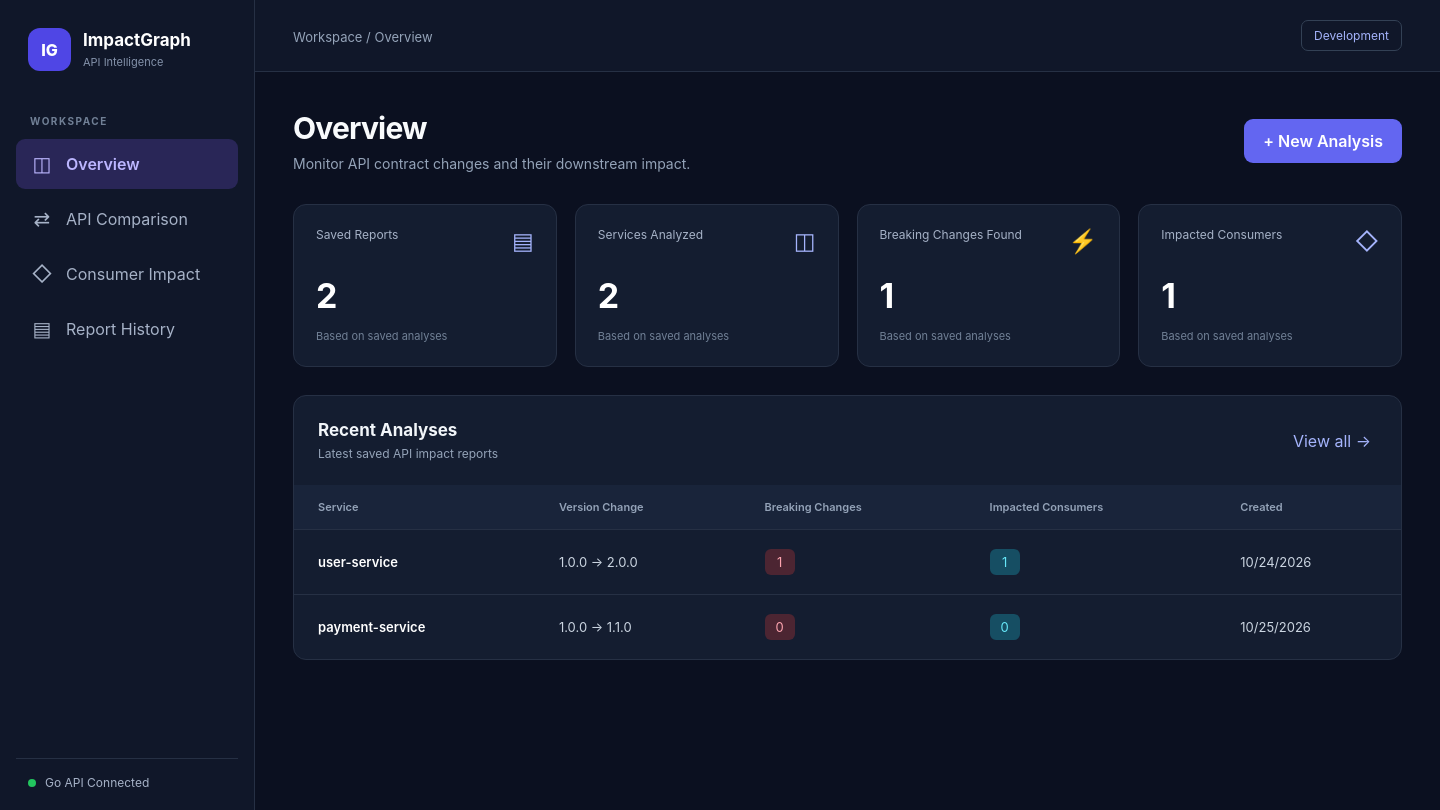
Test: ImpactGraph App › opens Consumer Impact from the sidebar
Click the button "◇ Consumer Impact" at coordinates (127, 274), box [16, 249, 238, 299]
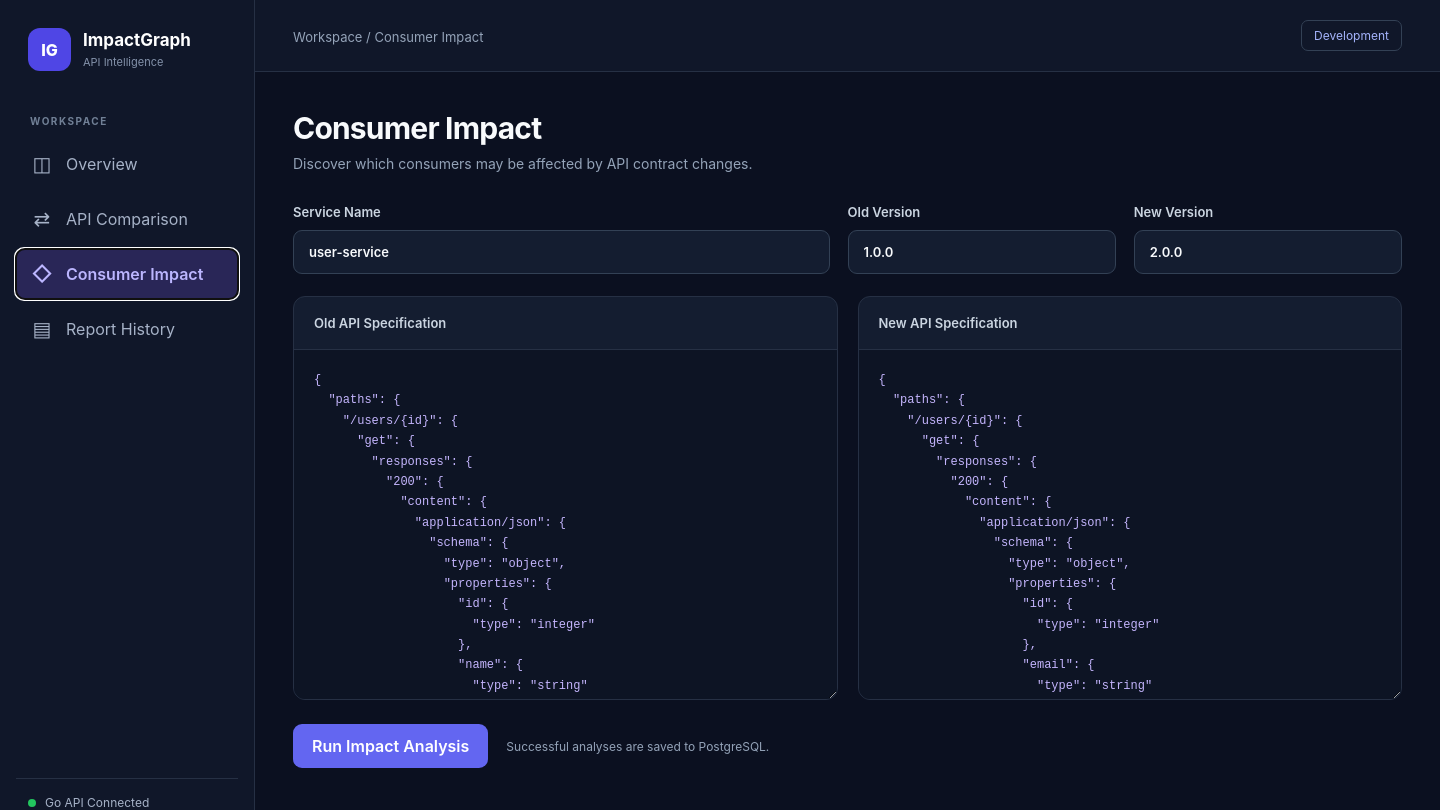
Expected: the heading "Consumer Impact" is shown, [293, 110, 541, 146]
Expected: the button "Run Impact Analysis" is shown, [293, 724, 488, 768]
